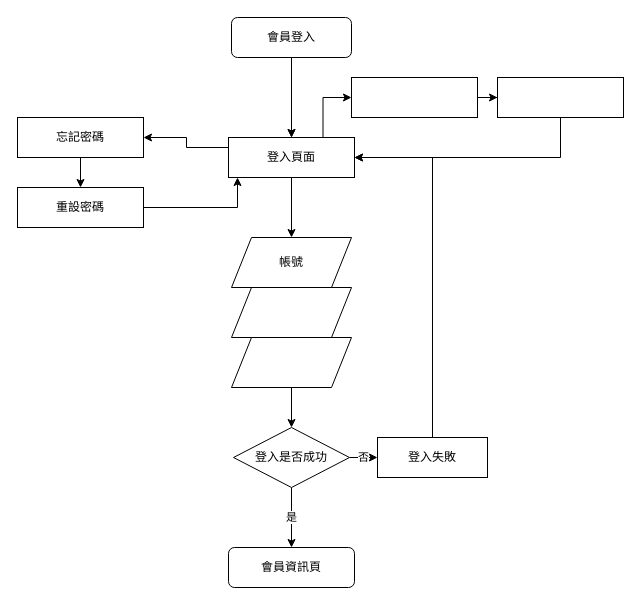
The diagram is 641 pixels wide and 605 high, and some of its shapes have lost their labels. Each missing label, with the box of its shape:
密碼: (230, 286, 352, 338)
註冊成功: (496, 76, 624, 118)
註冊頁面: (350, 76, 478, 118)
驗證碼: (230, 336, 352, 388)
